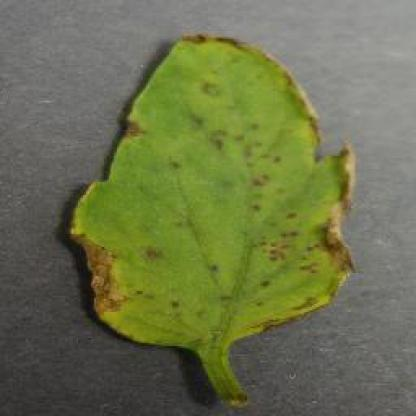bad leaf: (73, 10, 353, 414)
